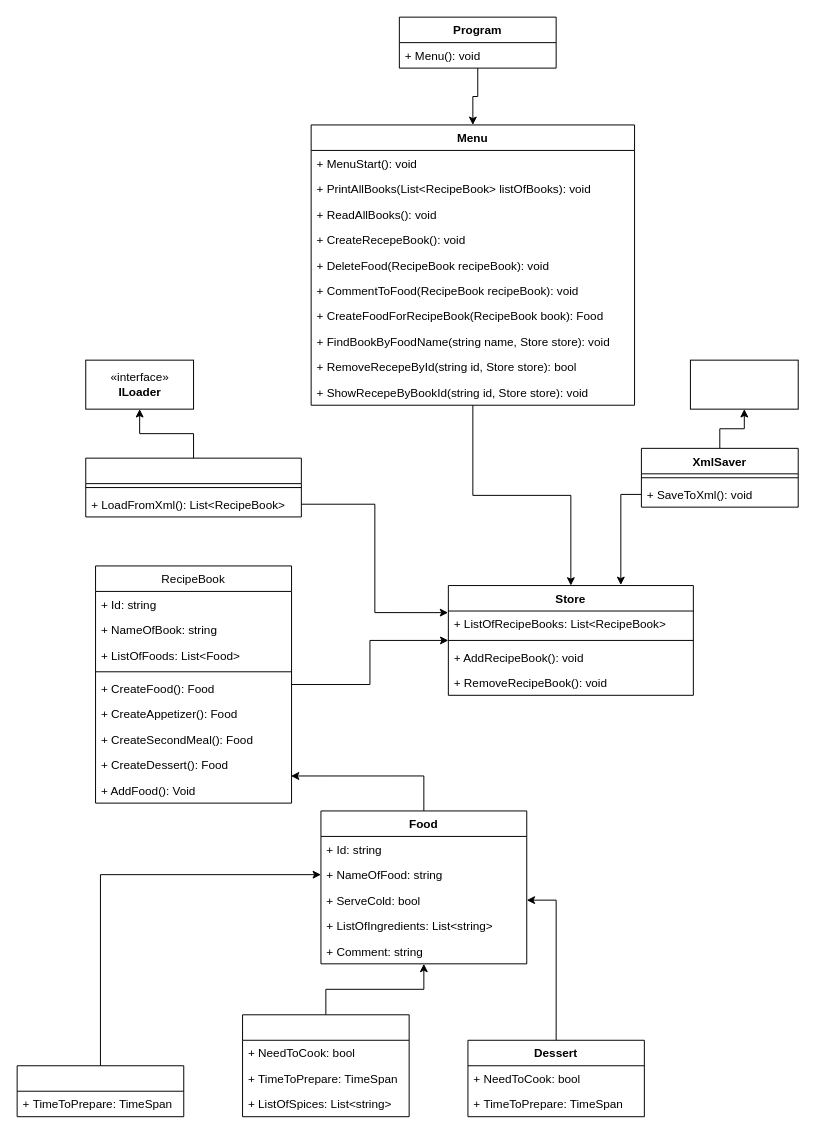
This 815x1137 diagram has some shape labels left out. Here are the shapes that lost their labels. From the top down, the box of each, then its label:
(689, 359, 798, 409): «interface» ISaver
(85, 457, 301, 517): XmlLoader
(242, 1014, 409, 1117): SecondMeal
(16, 1065, 184, 1117): Appetizer
